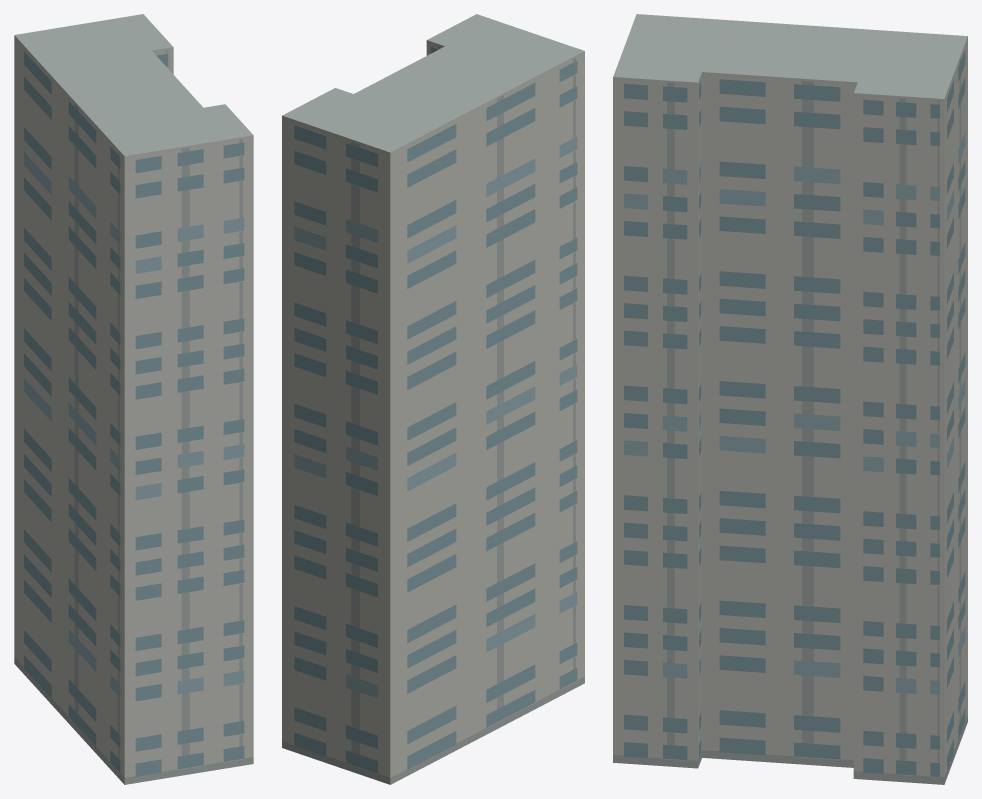
The model's file is residential-277ce4d3-a7b0-42e4-a4fb-fef329089696.glb.
3 renders of one model, left to right at view 1: azimuth 30°, elevation 25°; view 2: azimuth 150°, elevation 25°; view 3: azimuth 270°, elevation 25°, orthographic. The views are drawn at different scales.
Visible parts, largest first — view 1: residential-277ce4d3-a7b0-42e4-a4fb-fef329089696.tmp; view 2: residential-277ce4d3-a7b0-42e4-a4fb-fef329089696.tmp; view 3: residential-277ce4d3-a7b0-42e4-a4fb-fef329089696.tmp.
Boxes of the visible parts, x1,y1,x2,y2 form: residential-277ce4d3-a7b0-42e4-a4fb-fef329089696.tmp: (14,14,253,784); residential-277ce4d3-a7b0-42e4-a4fb-fef329089696.tmp: (282,14,584,784); residential-277ce4d3-a7b0-42e4-a4fb-fef329089696.tmp: (613,14,967,784).
Bounding box in the file's own units: 20.31 × 76.25 × 35.77.
